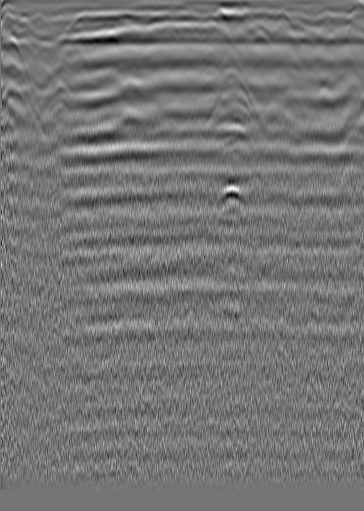가스: (214, 182, 249, 216)
상수: (302, 25, 322, 45)
오수: (19, 24, 39, 44)
우수: (158, 20, 178, 40)
